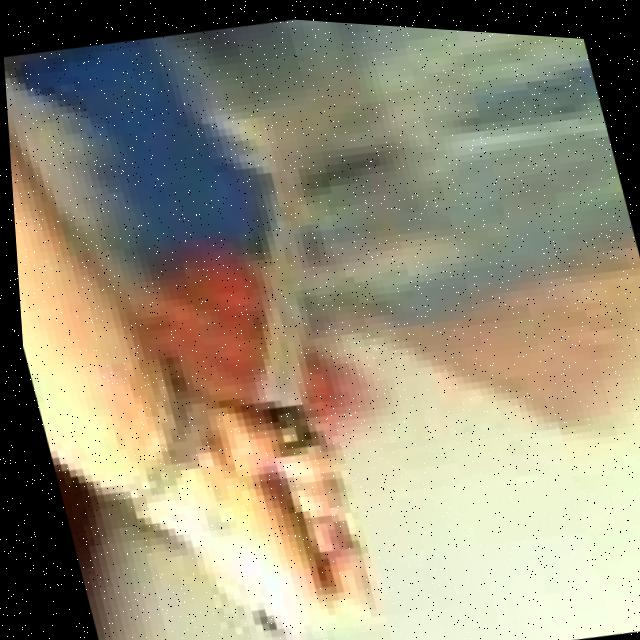knife: (189, 101, 388, 410)
